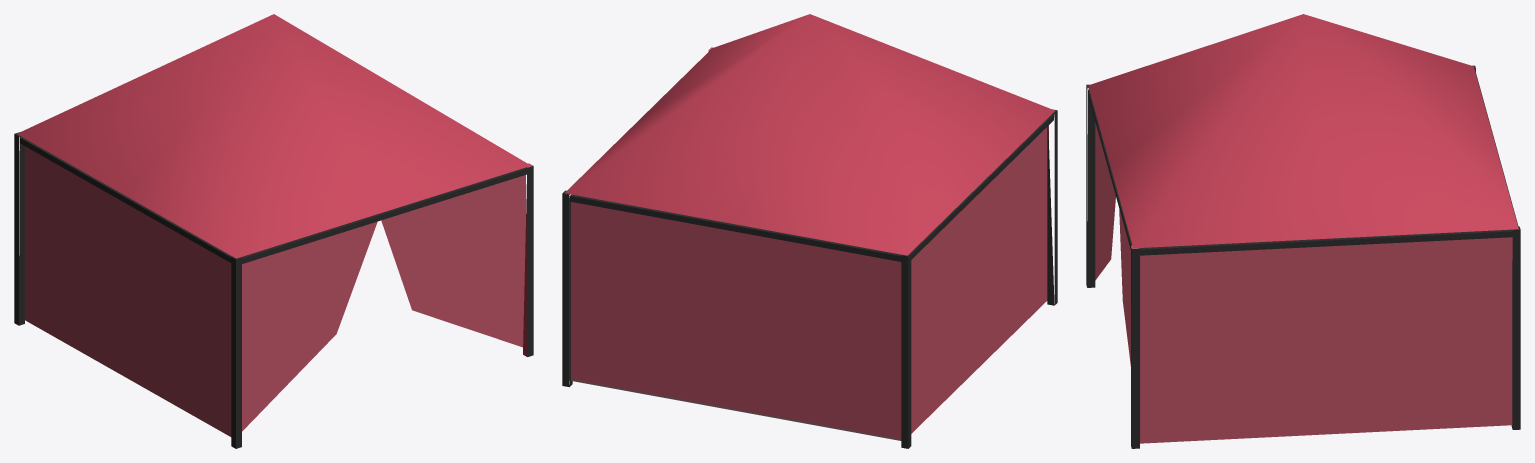
The model's file is canopy_4_lev2.glb.
3 views of the same model, side by side, from view 1: azimuth 30°, elevation 25°; view 2: azimuth 150°, elevation 25°; view 3: azimuth 270°, elevation 25° (orthographic). The views are drawn at different scales.
Visible parts, largest first — view 1: canopy_4_lev2; view 2: canopy_4_lev2; view 3: canopy_4_lev2.
Part boxes in pixels (x1=…): canopy_4_lev2: x1=14, y1=14, x2=533, y2=448; canopy_4_lev2: x1=562, y1=14, x2=1057, y2=448; canopy_4_lev2: x1=1086, y1=14, x2=1520, y2=448.
Bounding box in the file's own units: 12.24 × 10.67 × 12.24.
1 material, 1 textured.
